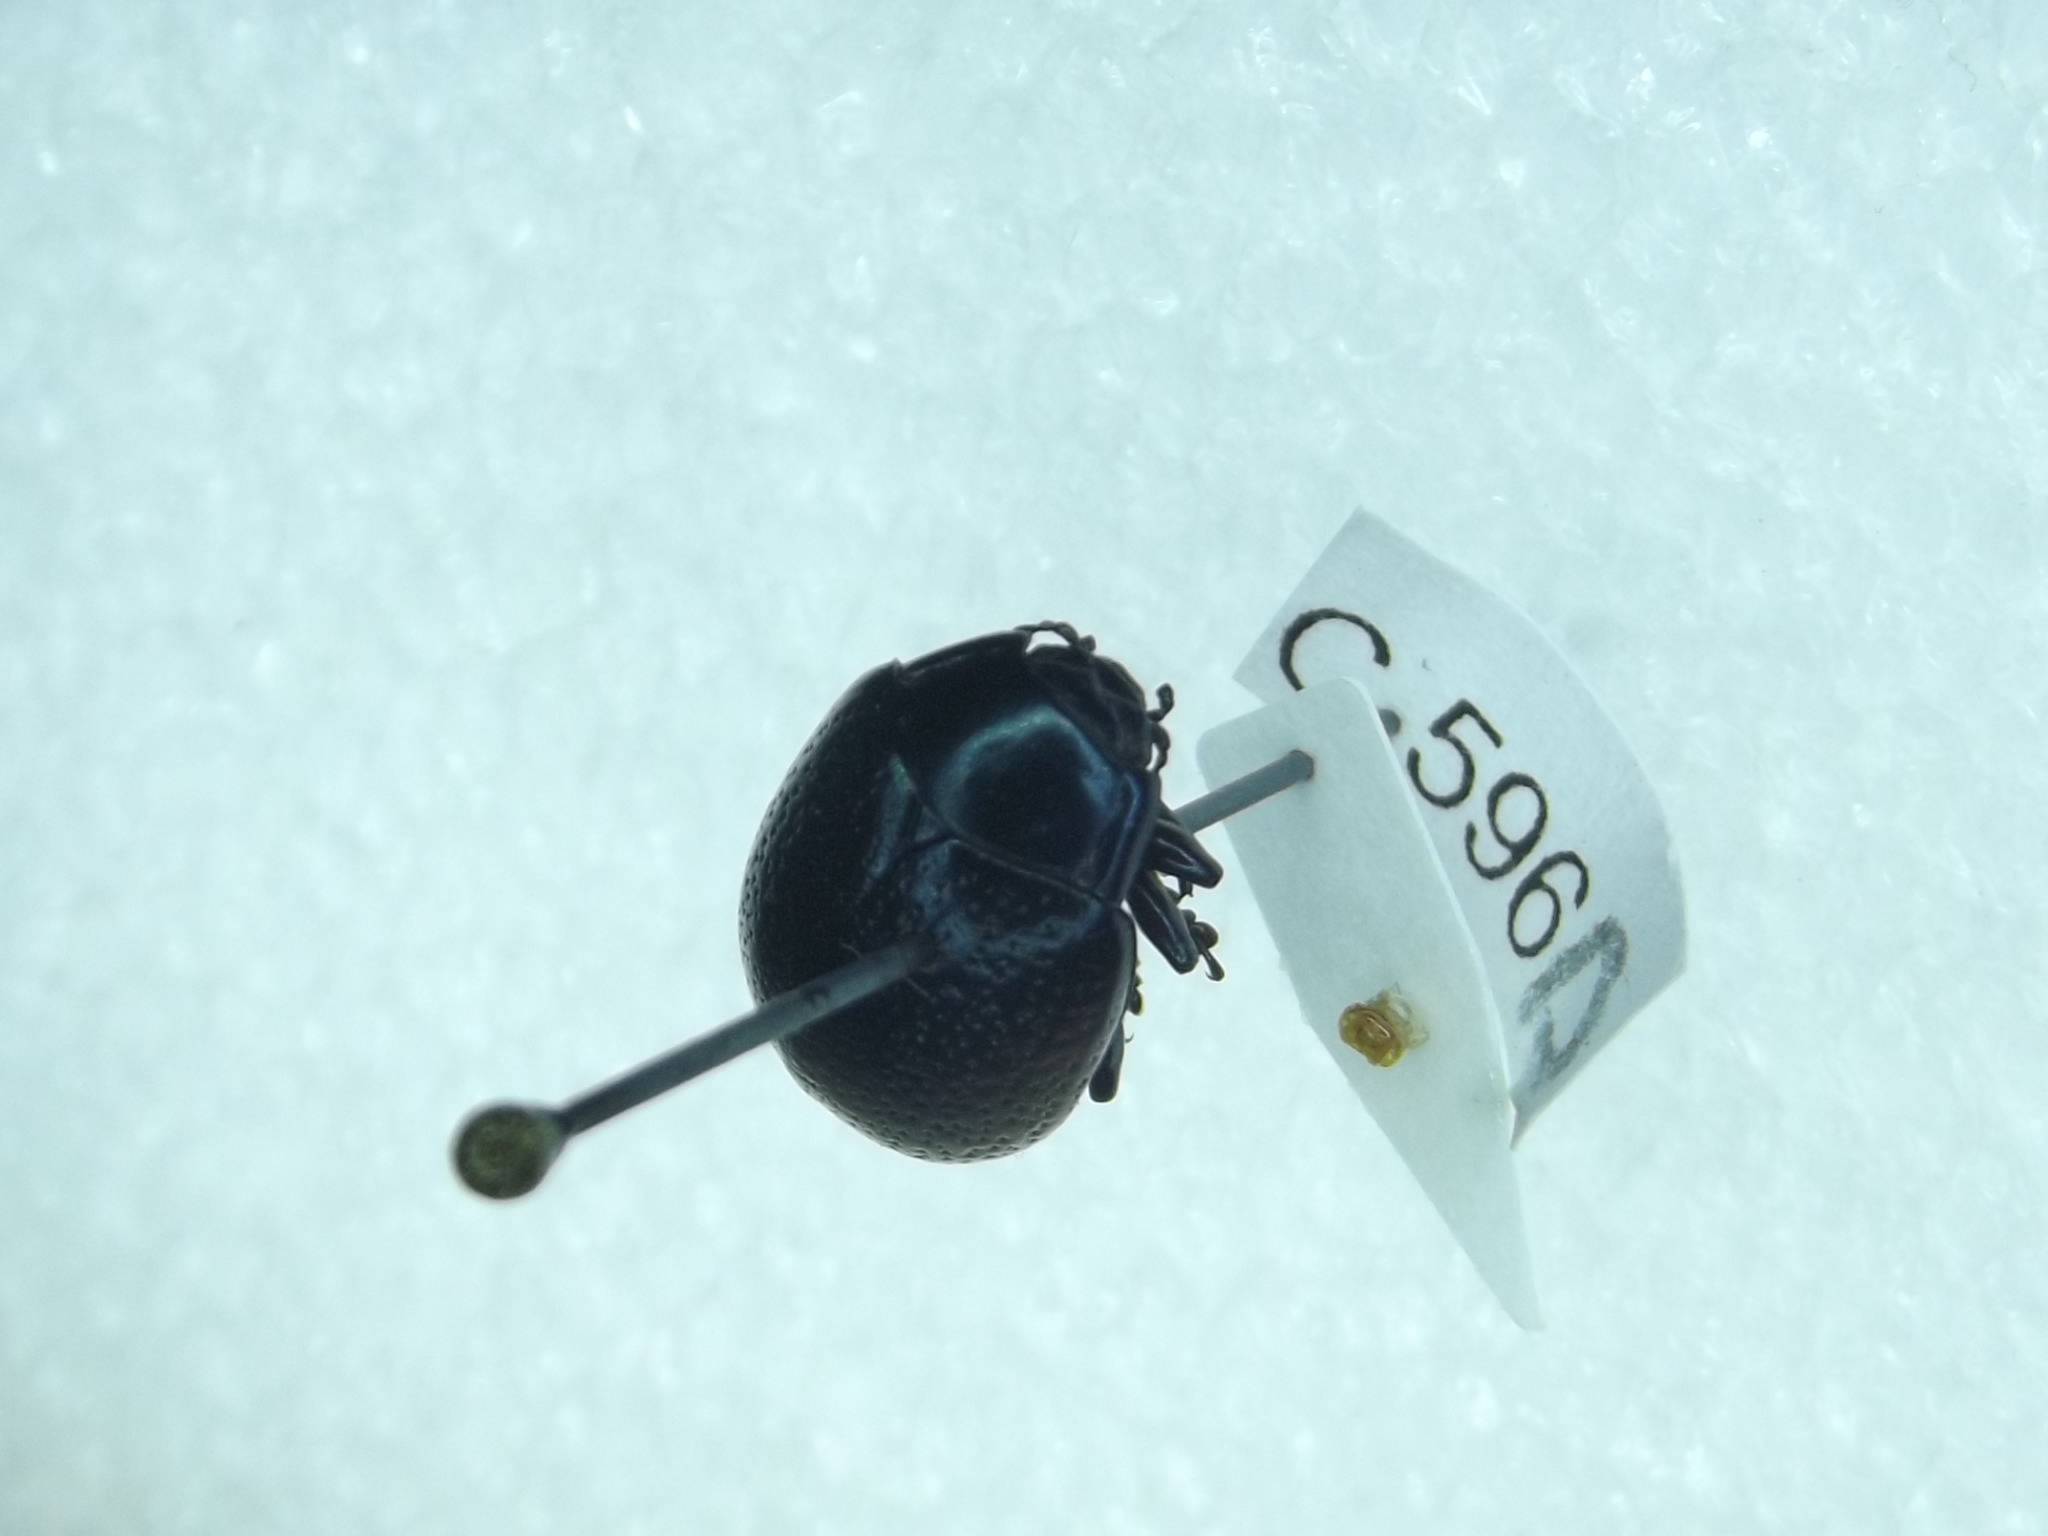Chrysolina_oricalcia: (726, 602, 1238, 1163)
